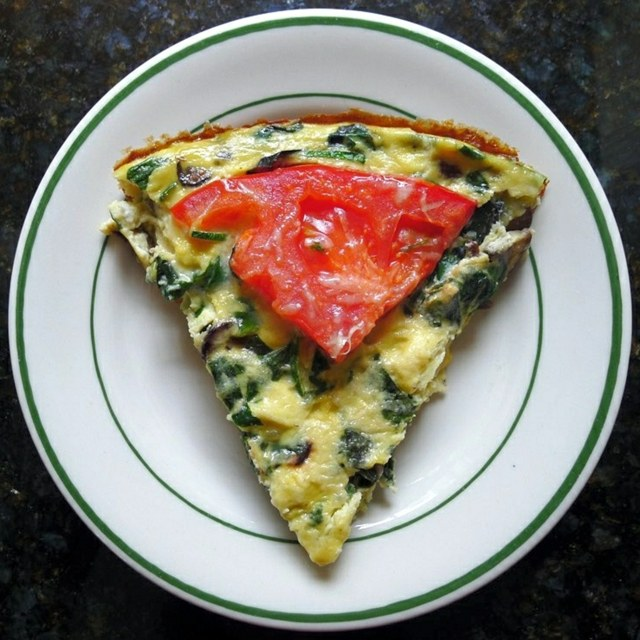tomato: (170, 164, 475, 359)
